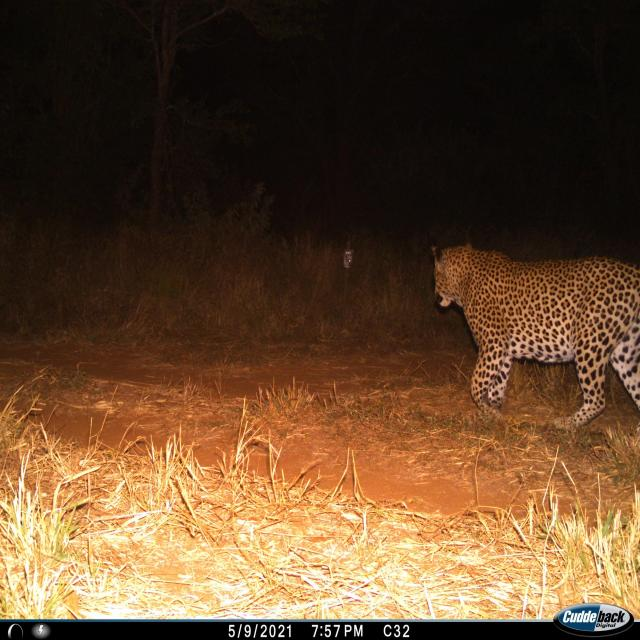Leopard: (423, 234, 640, 446)
